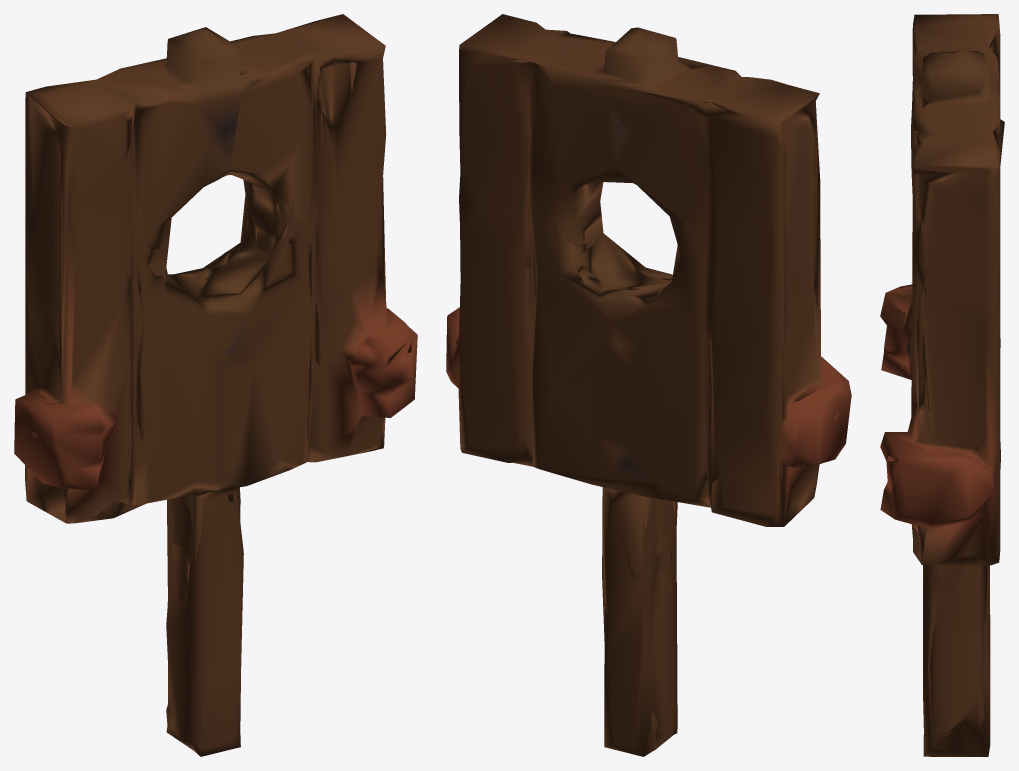
File: gen3d-pillory-lod0.glb
3 renders of one model, left to right at view 1: azimuth 30°, elevation 25°; view 2: azimuth 150°, elevation 25°; view 3: azimuth 270°, elevation 25°, orthographic.
Visible parts, largest first — view 1: part_0; view 2: part_0; view 3: part_0.
Boxes of the visible parts, left/top/right/bottom form: part_0: left=14, top=14, right=417, bottom=756; part_0: left=446, top=14, right=851, bottom=756; part_0: left=880, top=14, right=1004, bottom=756.
Size of the model in its own units: 0.555 by 0.9998 by 0.1622.
